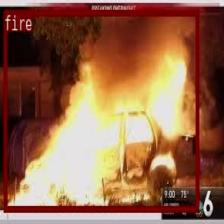fire: (4, 9, 198, 211)
